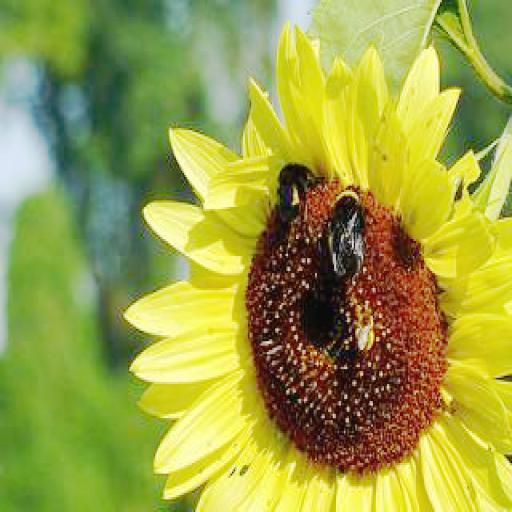sunflower: (142, 23, 512, 512)
